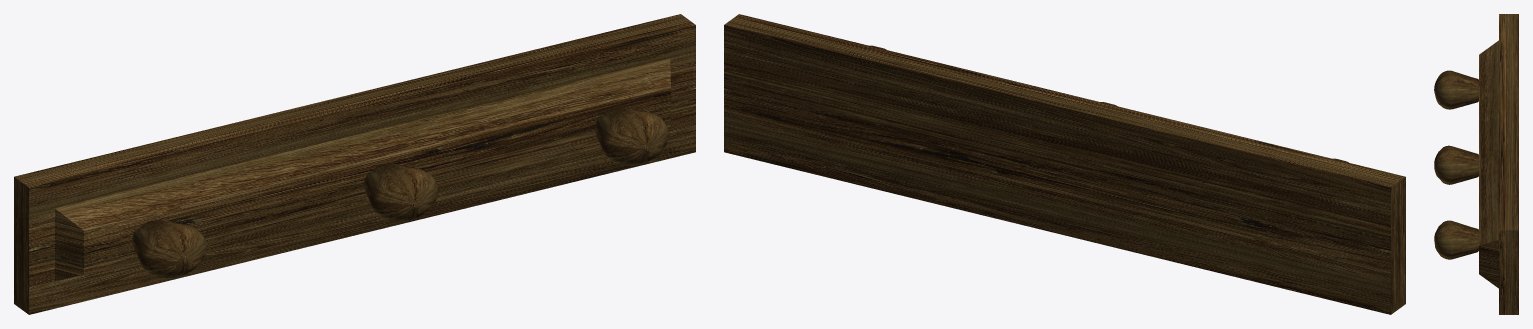
File: Hanger.FBX
The picture shows the model from 3 angles, left to right: view 1: azimuth 30°, elevation 25°; view 2: azimuth 150°, elevation 25°; view 3: azimuth 270°, elevation 25°; orthographic projection. The views are drawn at different scales.
Visible parts, largest first — view 1: hanger; view 2: hanger; view 3: hanger.
Part boxes in pixels (<box>): hanger: <box>14,14,695,314</box>; hanger: <box>724,14,1405,314</box>; hanger: <box>1434,14,1518,314</box>.
Bounding box in the file's own units: 592 × 98.12 × 108.
Materials: 1 (1 with a texture image).
